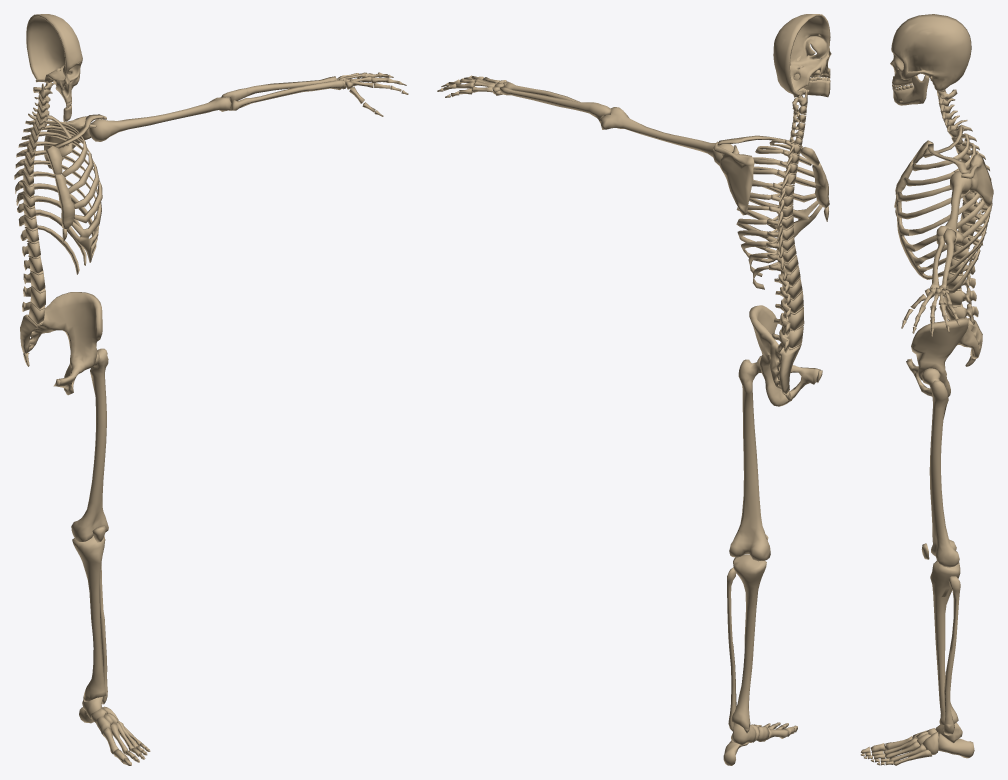
File: HalfSkeleton.fbx
3 renders of one model, left to right at view 1: azimuth 30°, elevation 25°; view 2: azimuth 150°, elevation 25°; view 3: azimuth 270°, elevation 25°, orthographic. The views are drawn at different scales.
Parts seen in each view (by area): view 1: MaleHalfSkeletalHipLeftandSacrumGeo, HalfSkull, MaleHalfSkeletalFemurLeftGeo, MaleHalfSkeletalTibiaLeftGeo, MaleHalfSkeletalHumerusLeftGeo, MaleHalfSkeletalSternumGeo, MaleHalfSkeletalRadiusLeftGeo, MaleHalfSkeletalUlnaLeftGeo, MaleHalfSkeletalScapulaLeftGeo; view 2: MaleHalfSkeletalFemurLeftGeo, HalfSkull, MaleHalfSkeletalHipLeftandSacrumGeo, MaleHalfSkeletalTibiaLeftGeo, MaleHalfSkeletalHumerusLeftGeo, MaleHalfSkeletalScapulaLeftGeo, MaleHalfSkeletalUlnaLeftGeo, MaleHalfSkeletalFibulaLeftGeo, MaleHalfSkeletalSternumGeo; view 3: HalfSkull, MaleHalfSkeletalHipLeftandSacrumGeo, MaleHalfSkeletalFemurLeftGeo, MaleHalfSkeletalTibiaLeftGeo, MaleHalfSkeletalFibulaLeftGeo, MaleHalfSkeletalScapulaLeftGeo, MaleHalfSkeletalHumerusLeftGeo, HalfJaw, MaleHalfSkeletalCostalCartilagesGeo, MaleHalfSkeletalCalcaneusLeftFootGeo, MaleHalfSkeletalUlnaLeftGeo, MaleHalfSkeletalSternumGeo (+19 smaller).
Boxes of the visible parts, x1,y1,x2,y2 form: MaleHalfSkeletalHipLeftandSacrumGeo: (20,292,102,395); HalfSkull: (26,14,82,103); MaleHalfSkeletalFemurLeftGeo: (71,348,108,541); MaleHalfSkeletalTibiaLeftGeo: (72,536,106,701); MaleHalfSkeletalHumerusLeftGeo: (89,97,231,141); MaleHalfSkeletalSternumGeo: (45,146,74,242); MaleHalfSkeletalRadiusLeftGeo: (229,80,344,110); MaleHalfSkeletalUlnaLeftGeo: (221,76,336,102); MaleHalfSkeletalScapulaLeftGeo: (44,116,106,168); MaleHalfSkeletalFemurLeftGeo: (729,355,770,561); HalfSkull: (773,14,831,95); MaleHalfSkeletalHipLeftandSacrumGeo: (749,305,822,406); MaleHalfSkeletalTibiaLeftGeo: (731,554,766,733); MaleHalfSkeletalHumerusLeftGeo: (599,107,733,165); MaleHalfSkeletalScapulaLeftGeo: (713,141,754,215); MaleHalfSkeletalUlnaLeftGeo: (500,86,611,122); MaleHalfSkeletalFibulaLeftGeo: (727,567,736,731); MaleHalfSkeletalSternumGeo: (800,147,829,221); HalfSkull: (890,14,971,90); MaleHalfSkeletalHipLeftandSacrumGeo: (906,317,982,396); MaleHalfSkeletalFemurLeftGeo: (922,368,959,567); MaleHalfSkeletalTibiaLeftGeo: (930,560,960,725); MaleHalfSkeletalFibulaLeftGeo: (943,576,960,735); MaleHalfSkeletalScapulaLeftGeo: (954,154,993,206); MaleHalfSkeletalHumerusLeftGeo: (936,171,971,245); HalfJaw: (892,75,929,105); MaleHalfSkeletalCostalCartilagesGeo: (896,213,932,279); MaleHalfSkeletalCalcaneusLeftFootGeo: (938,733,974,758); MaleHalfSkeletalUlnaLeftGeo: (940,228,956,289); MaleHalfSkeletalSternumGeo: (894,140,933,216).
Bounding box in the file's own units: 80.13 × 156 × 26.22.
